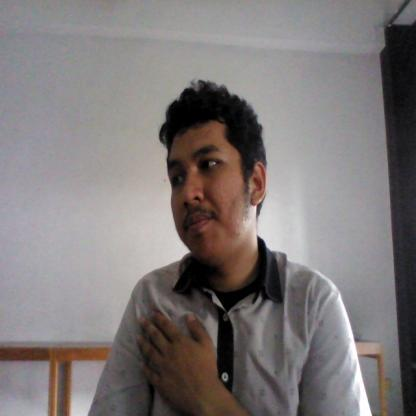Saya: (132, 306, 232, 416)
